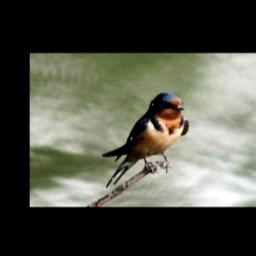Swallow: (105, 91, 192, 189)
